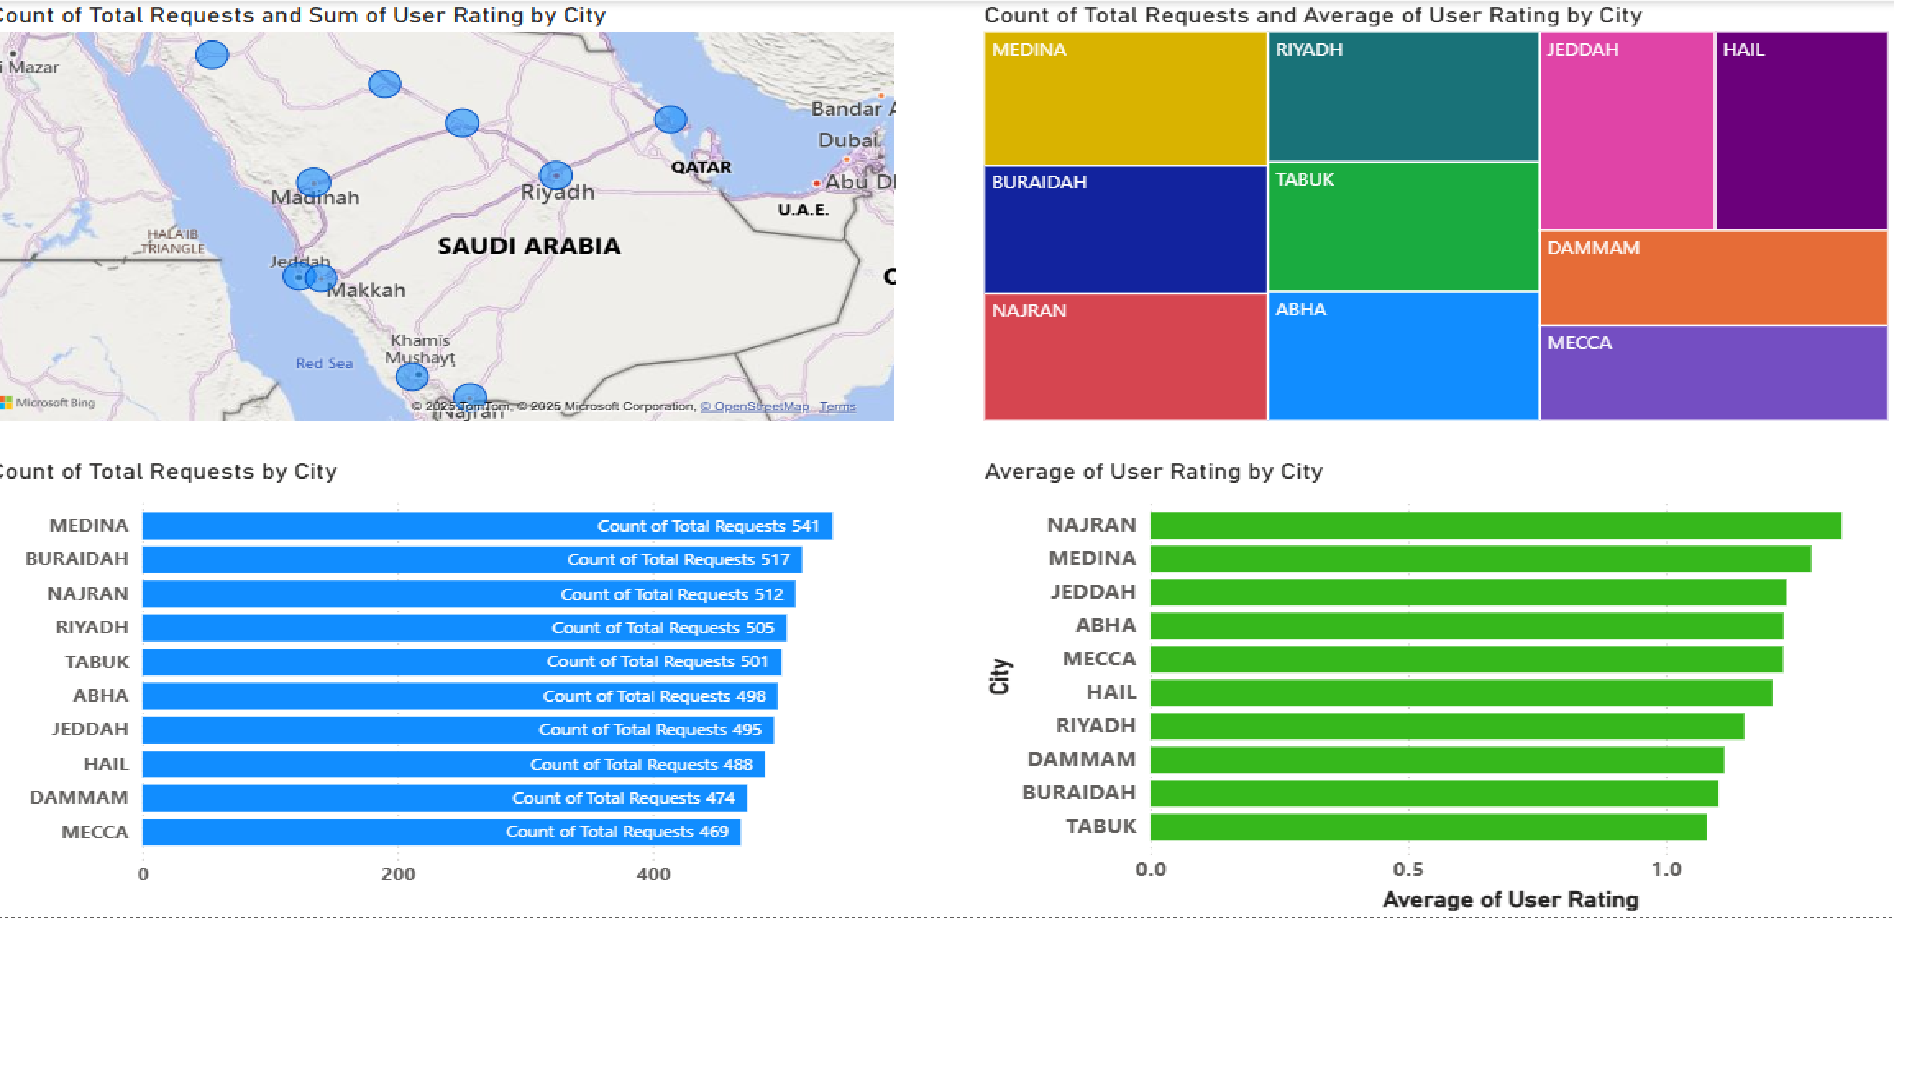

This screenshot's page, from the dashboard's own definition file:
{"tool":"powerbi","page":{"name":"Page 3","canvas":[1280,720],"ordinal":2},"visuals":[{"type":"clusteredBarChart","fields":{"Category":["Data G S.City"],"Y":["CountNonNull(Data G S.Total Requests)"]},"box":[0,359.5,614.8,360.9],"z":0},{"type":"clusteredBarChart","fields":{"Category":["Data G S.City"],"Y":["Avg(Data G S.User Rating)"]},"box":[665.5,359.5,614.8,360.9],"z":1000},{"type":"treemap","fields":{"Group":["Data G S.City"],"Values":["CountNonNull(Data G S.Total Requests)"]},"box":[665.5,0,614.8,334.8],"z":2000},{"type":"map","fields":{"Category":["Data G S.City"],"Size":["CountNonNull(Data G S.Total Requests)"]},"box":[0,0,615,335],"z":2001}]}

Visuals, with their boxes in screenshot pixels (x1, y1, x2, y2), scaled from the page's 1280x720 canvas onto the 1920x1080 screenshot:
clusteredBarChart - Data G S.City x CountNonNull(Data G S.Total Requests): {"x1": 0, "y1": 539, "x2": 922, "y2": 1079}
clusteredBarChart - Data G S.City x Avg(Data G S.User Rating): {"x1": 998, "y1": 539, "x2": 1919, "y2": 1079}
treemap - Data G S.City x CountNonNull(Data G S.Total Requests): {"x1": 998, "y1": 0, "x2": 1919, "y2": 502}
map - Data G S.City x CountNonNull(Data G S.Total Requests): {"x1": 0, "y1": 0, "x2": 922, "y2": 502}
